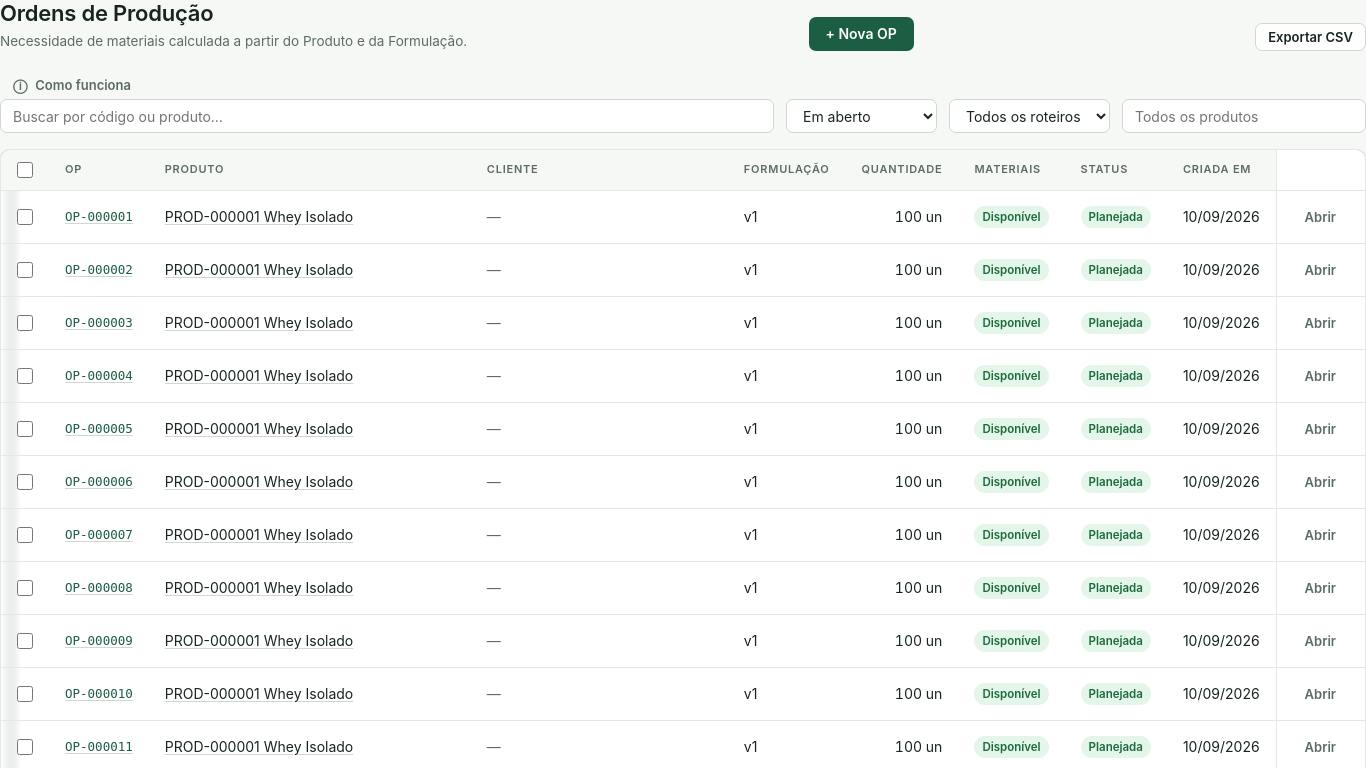
Scenario: OP — página × todos os filtrados › 20 da página, CTA com 250, todos os filtrados = 250, excluir 1 = 249
Click the checkbox named "Selecionar todos os registros desta página".
click(25, 170)  # box [17,162,33,178]
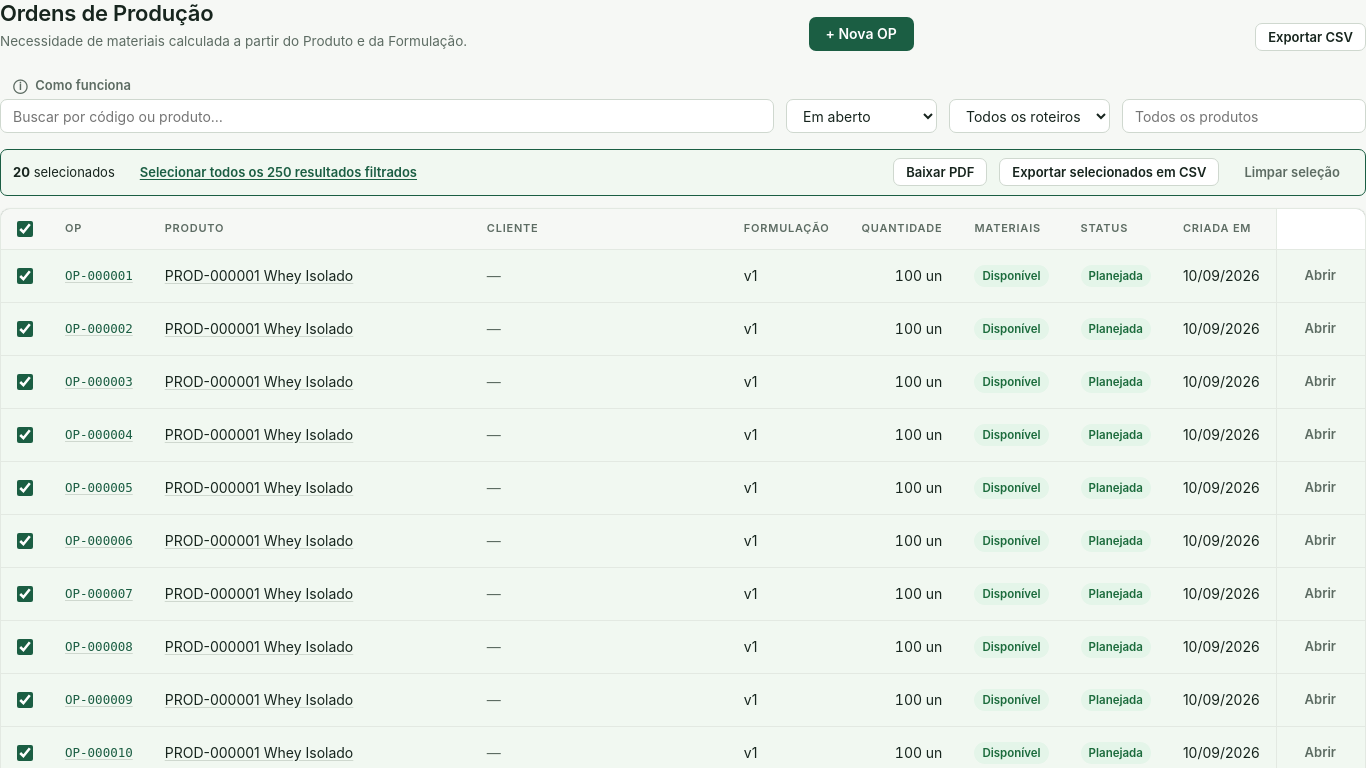
Expected: the element with class "bulk-bar__count" reads "20 selecionados", [13,163,115,182]
Click the button "Selecionar todos os 250 resultados filtrados".
click(278, 172)  # box [127,158,430,187]
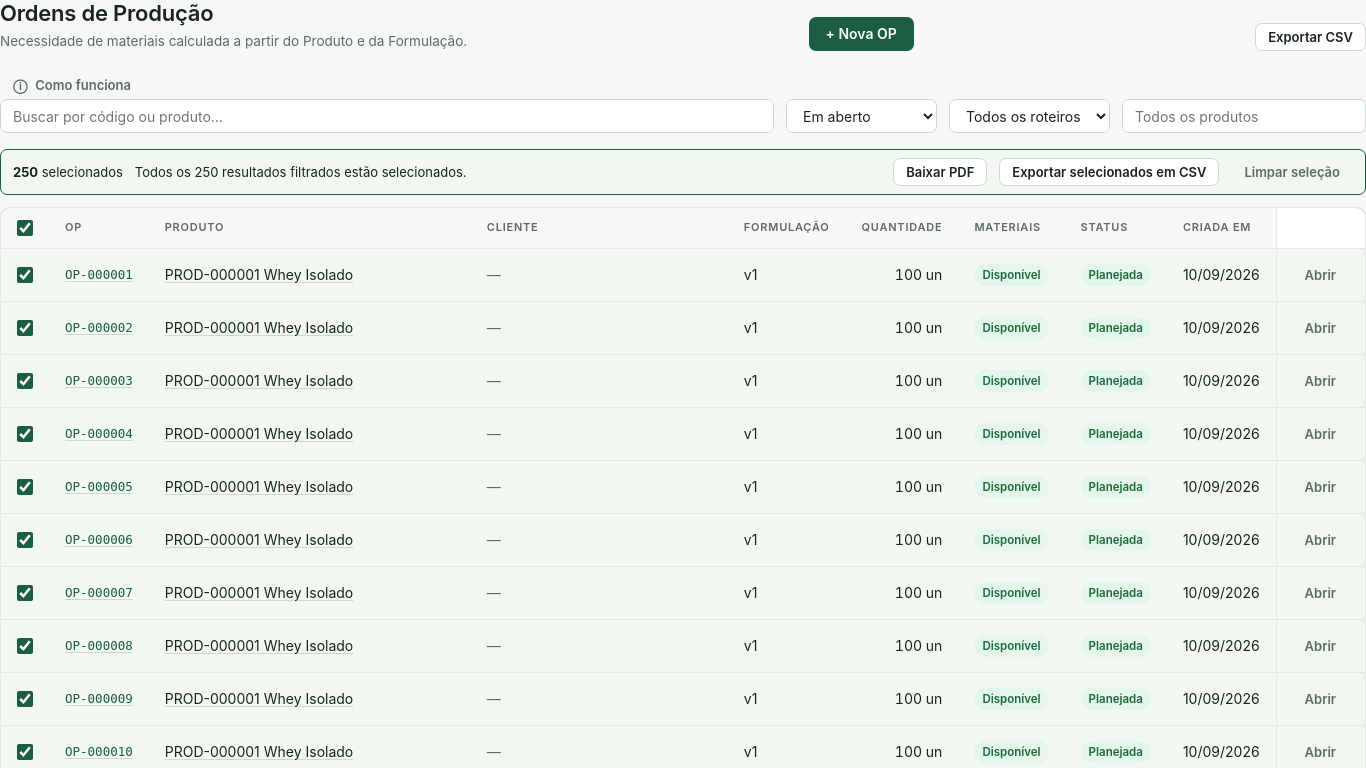
Expected: the element with class "bulk-bar__count" reads "250 selecionados", [13,163,123,181]
Expected: the text with class "bulk-bar__scope" reads "Todos os 250 resultados filtrados estão selecionados.", [135,164,466,180]
Click the checkbox named "Selecionar ordem de produção OP-000005".
click(25, 487)  # box [17,479,33,495]
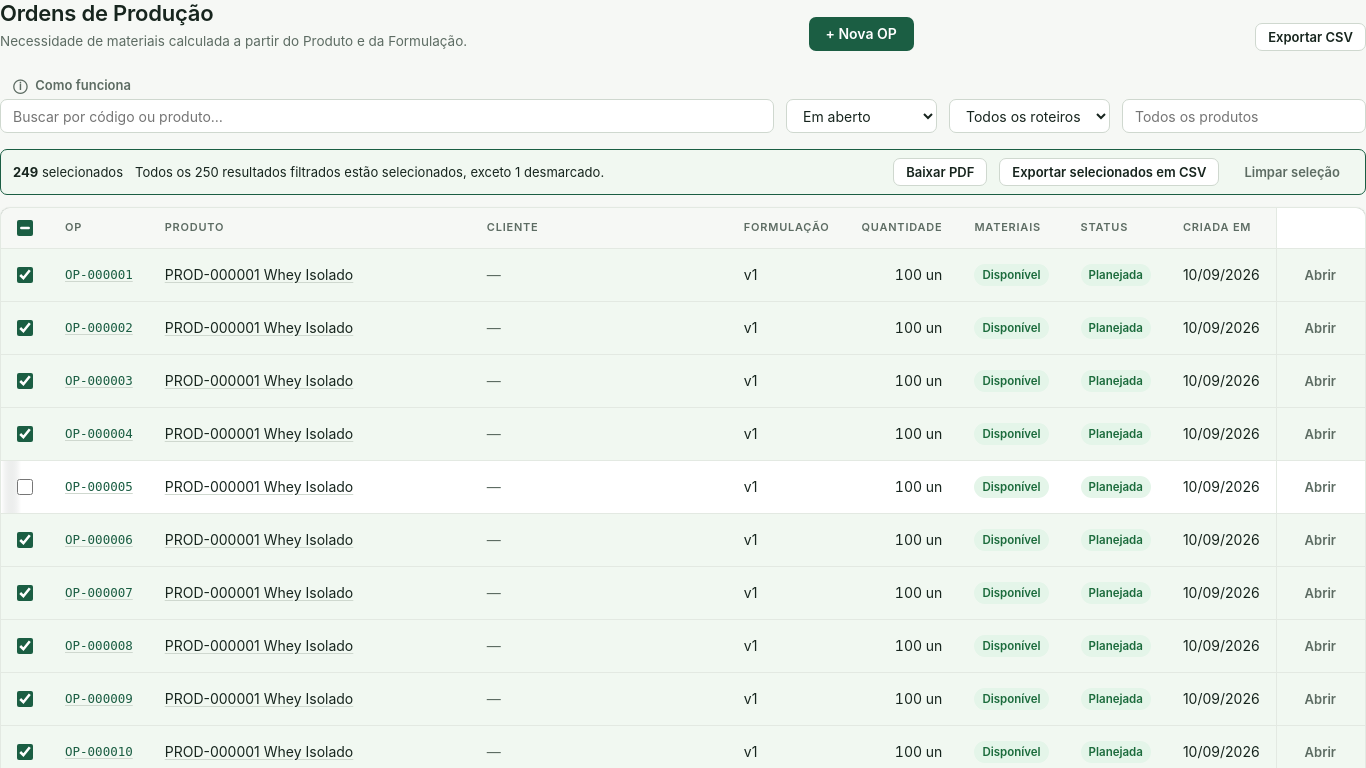
Expected: the element with class "bulk-bar__count" reads "249 selecionados", [13,163,123,181]
